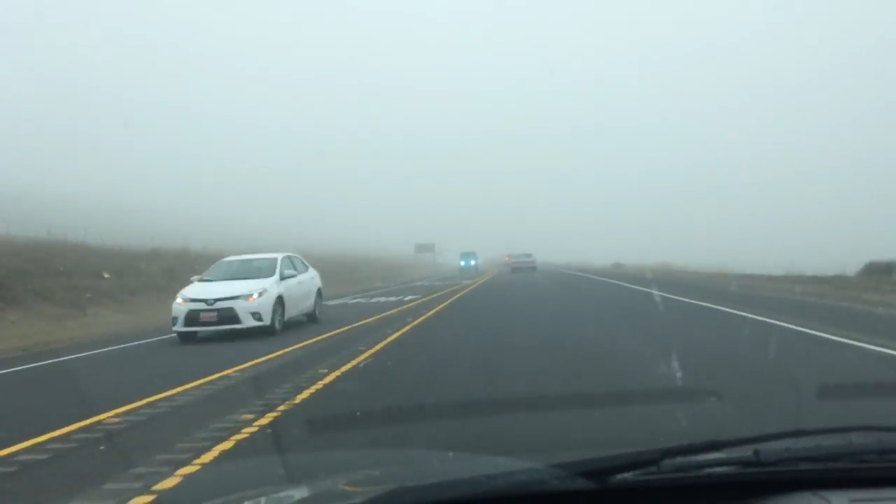car: (169, 253, 324, 342), (508, 251, 538, 271), (458, 249, 479, 271), (503, 251, 523, 267)
